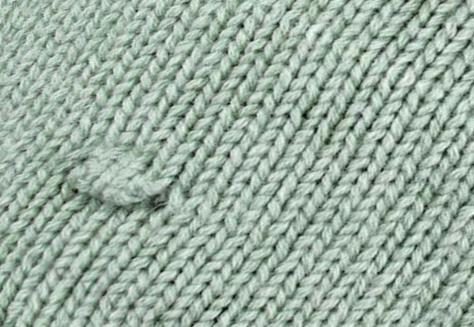knot: (60, 150, 171, 213)
